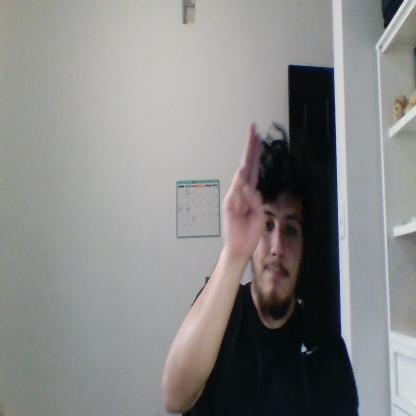U: (221, 122, 266, 258)
